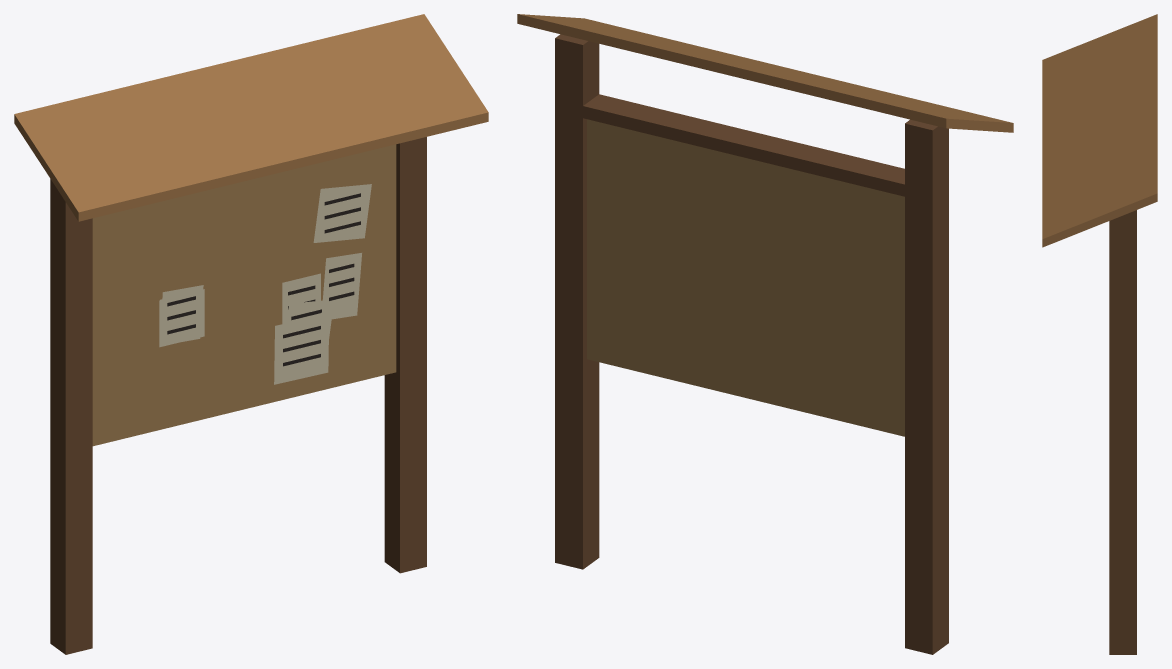
The model's file is NoticeBoard.fbx.
3 views of the same model, side by side, from view 1: azimuth 30°, elevation 25°; view 2: azimuth 150°, elevation 25°; view 3: azimuth 270°, elevation 25° (orthographic). The views are drawn at different scales.
Visible parts, largest first — view 1: NoticeBoard; view 2: NoticeBoard; view 3: NoticeBoard.
Part boxes in pixels (x1=…): NoticeBoard: x1=14, y1=14, x2=488, y2=654; NoticeBoard: x1=517, y1=14, x2=1013, y2=654; NoticeBoard: x1=1042, y1=14, x2=1157, y2=654.
Size of the model in its own units: 1.84 by 2.26 by 0.5.
